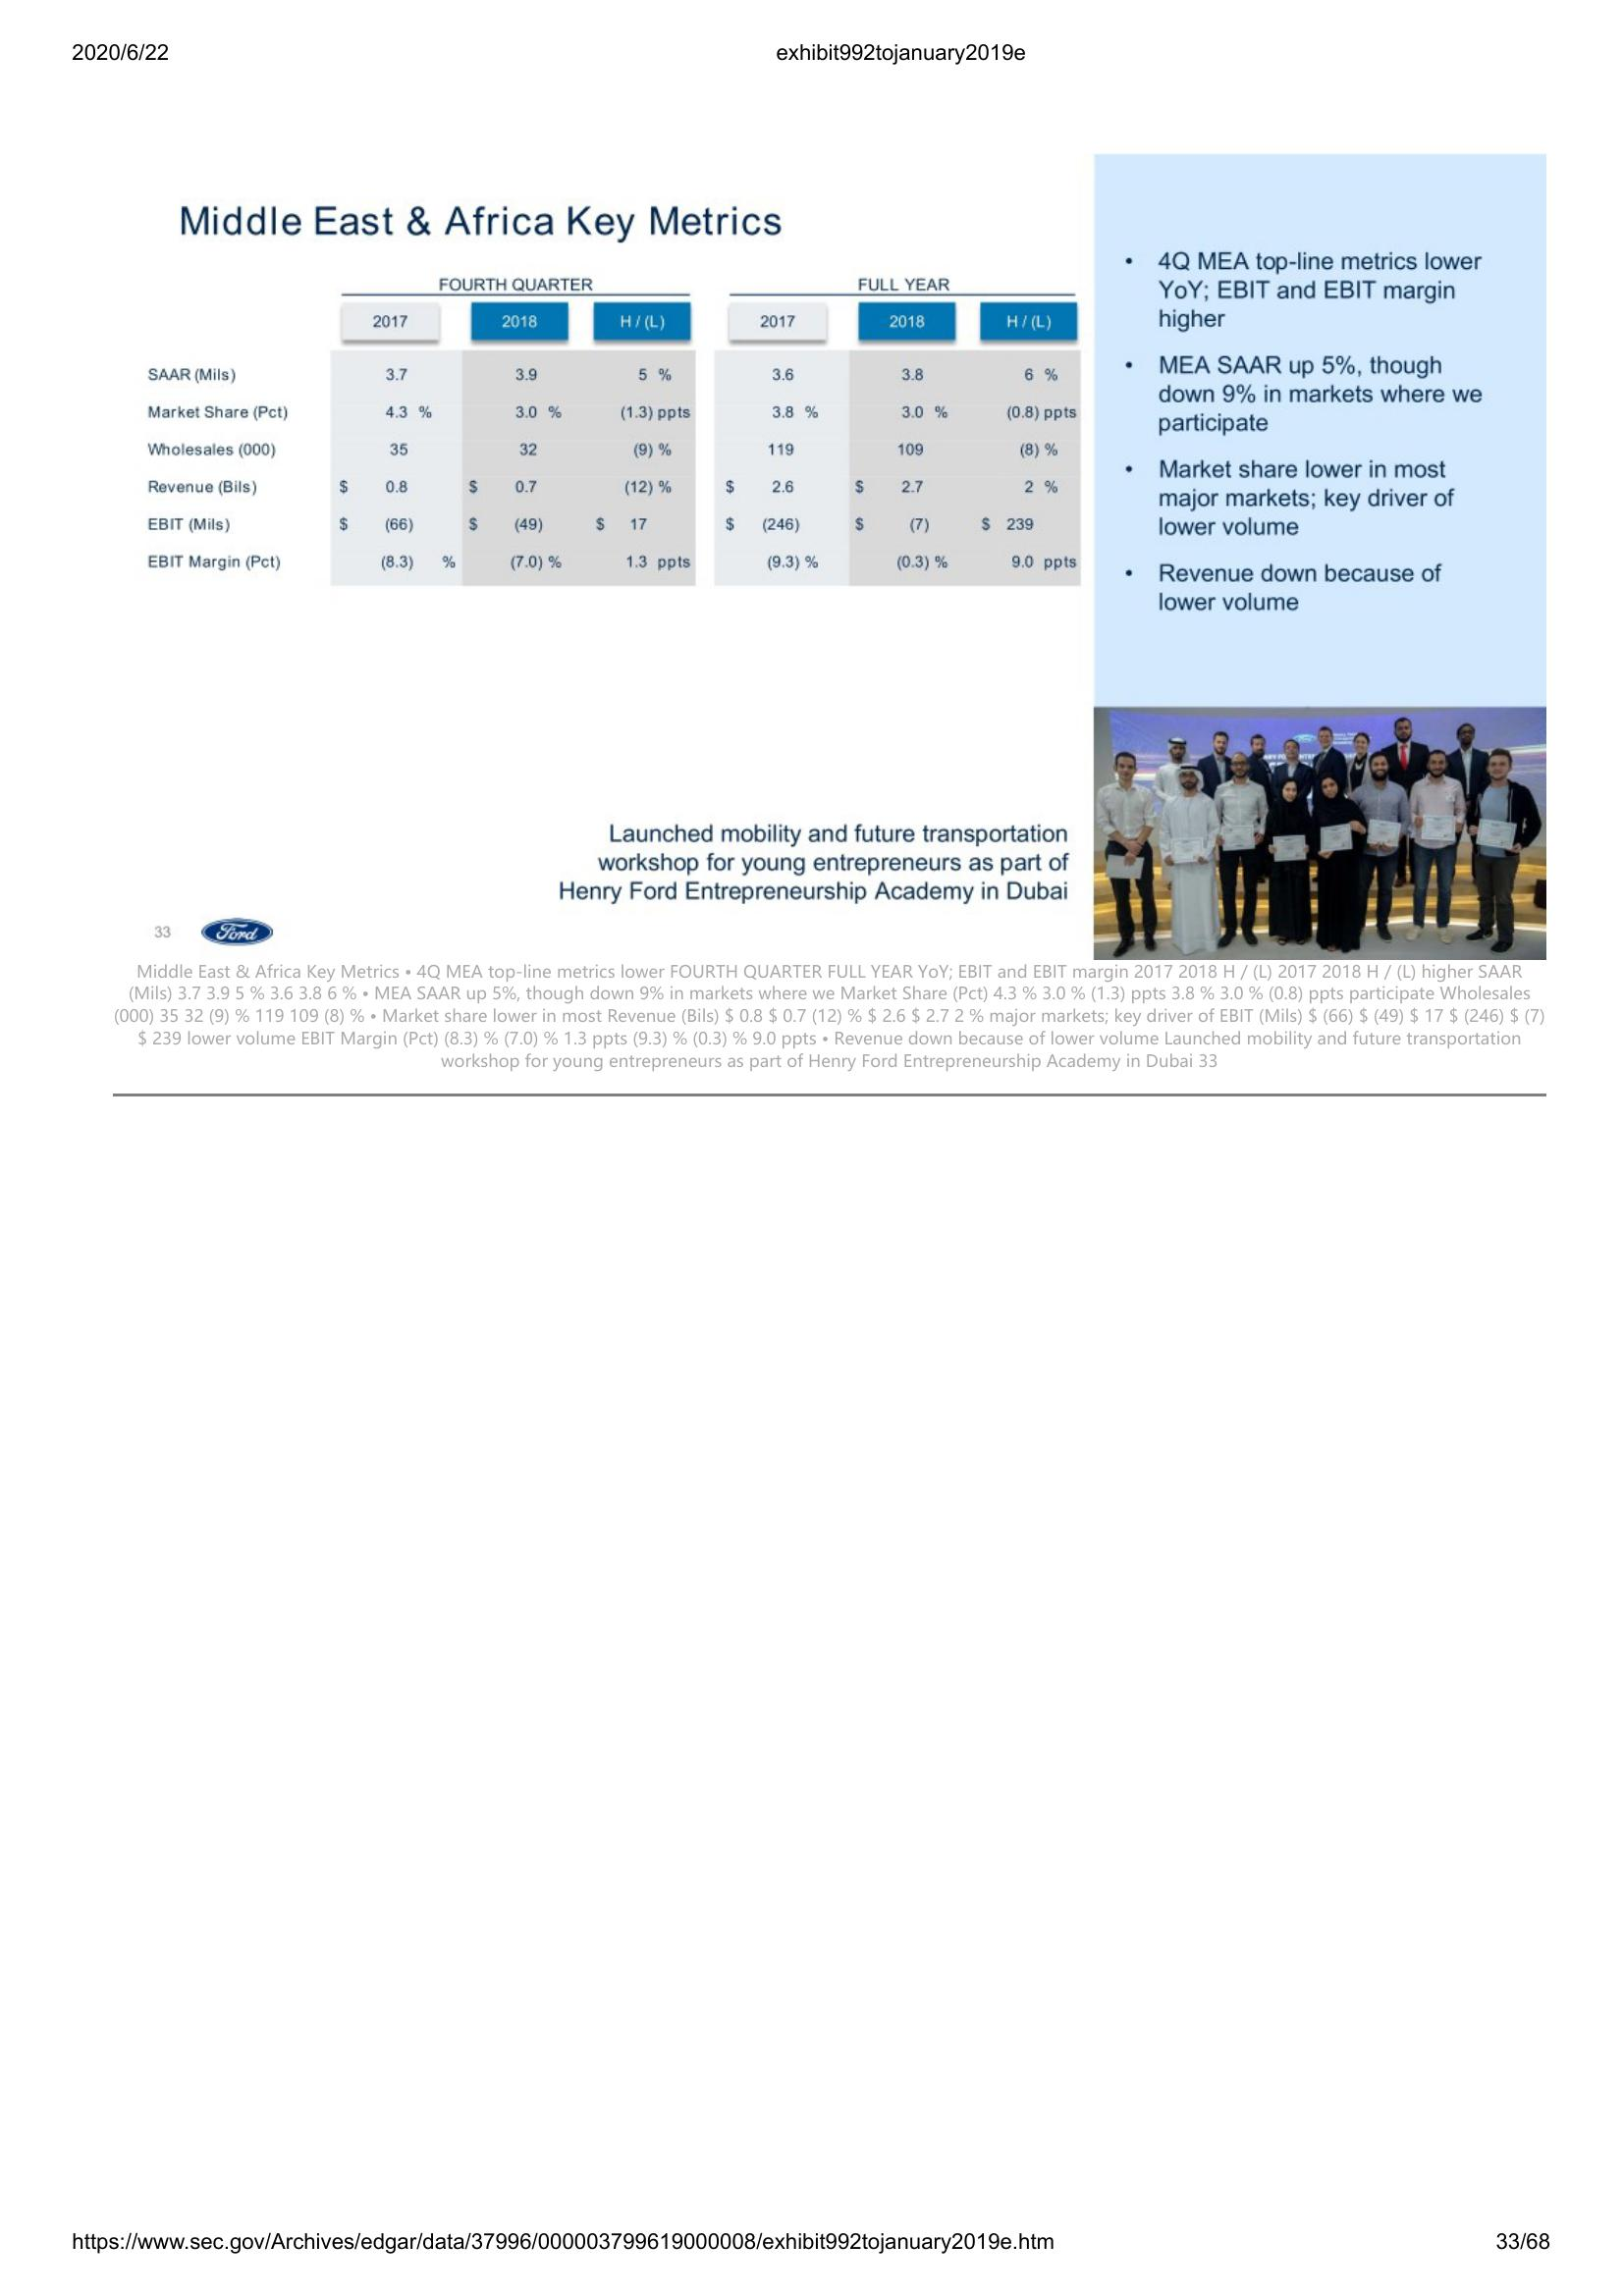table: (144, 274, 1080, 583)
